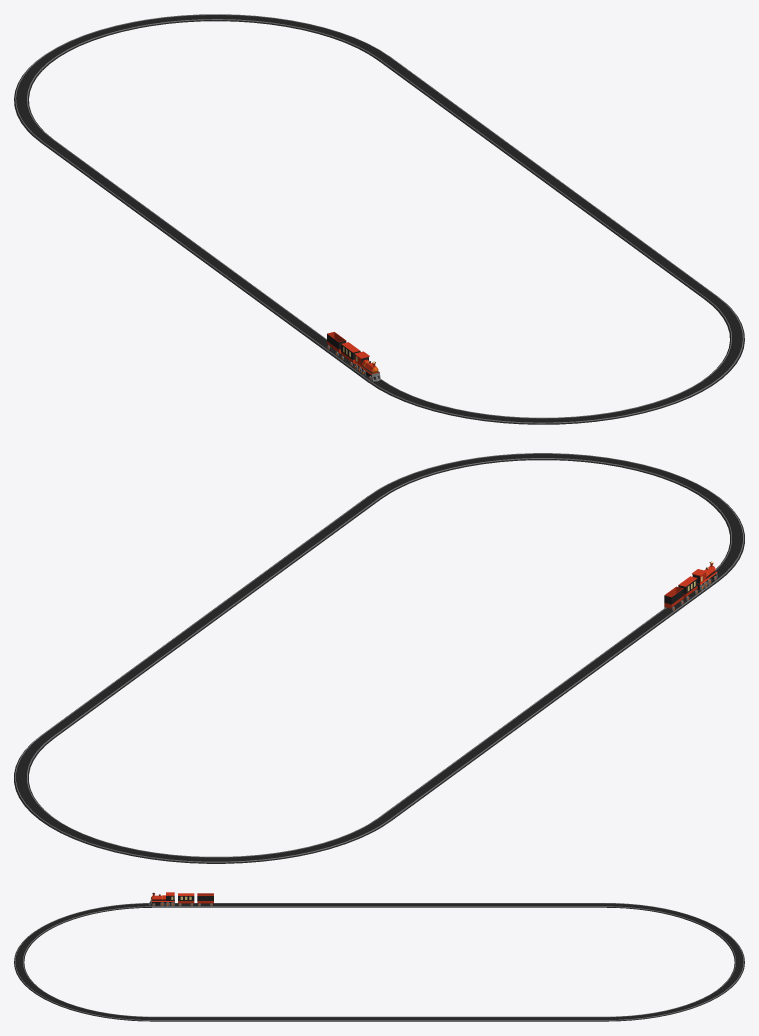
Rendered from Train_and_rail.fbx.
3 renders of one model, top to bottom at view 1: azimuth 30°, elevation 25°; view 2: azimuth 150°, elevation 25°; view 3: azimuth 270°, elevation 25°, orthographic. The views are drawn at different scales.
Parts seen in each view (by area): view 1: Rail; view 2: Rail; view 3: Rail, Train.
Part boxes in pixels (x1,y1,x2,y2): Rail: (14,14,744,424); Rail: (14,453,744,863); Rail: (14,903,744,1021); Train: (148,892,174,906).
Bounding box in the file's own units: 716 × 36.32 × 1872.
